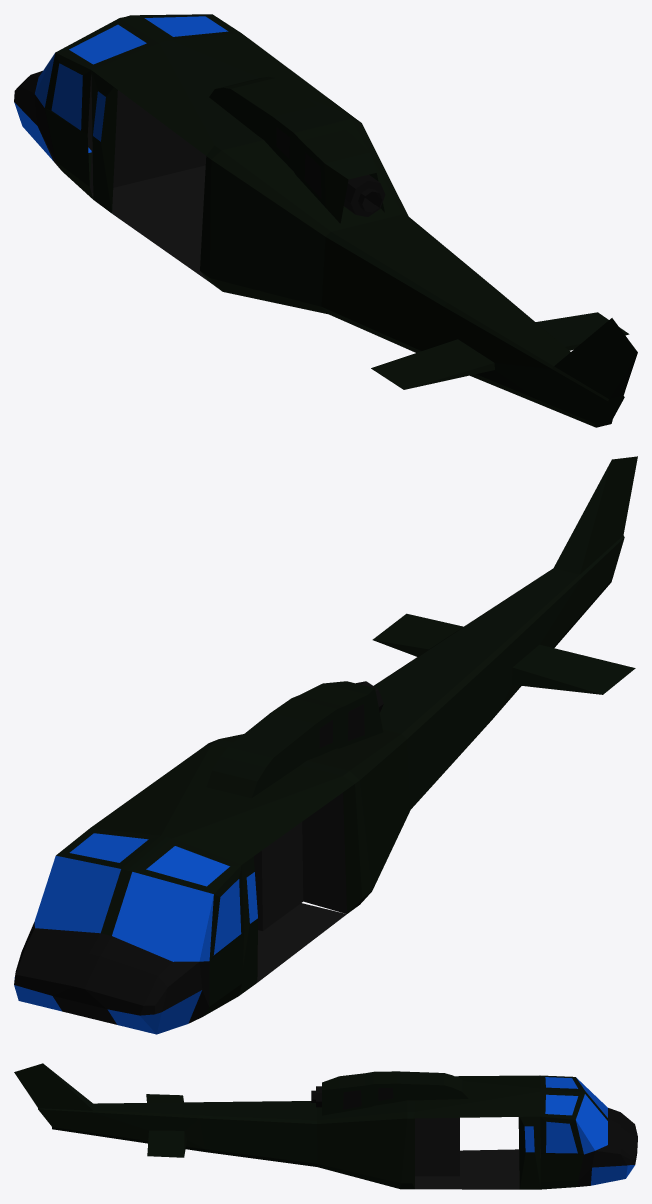
3 renders of one model, top to bottom at view 1: azimuth 30°, elevation 25°; view 2: azimuth 150°, elevation 25°; view 3: azimuth 270°, elevation 25°, orthographic. The views are drawn at different scales.
Parts seen in each view (by area): view 1: uh1d; view 2: uh1d; view 3: uh1d.
Part boxes in pixels (x1,y1,x2,y2): uh1d: (14, 14, 637, 427); uh1d: (14, 456, 637, 1034); uh1d: (14, 1063, 637, 1189).
Size of the model in its own units: 1 by 0.8041 by 4.25.
